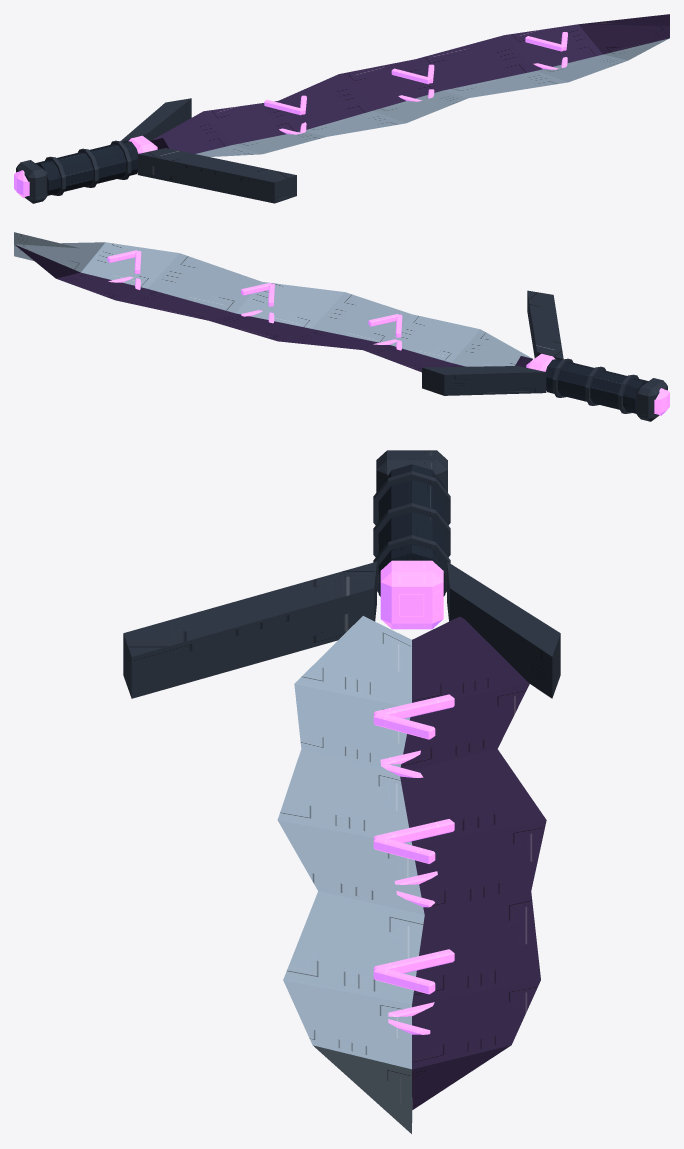
The model's file is greatblade.glb.
3 views of the same model, one above another, from view 1: azimuth 30°, elevation 25°; view 2: azimuth 150°, elevation 25°; view 3: azimuth 270°, elevation 25° (orthographic). The views are drawn at different scales.
Visible parts, largest first — view 1: blade, guard, grip; view 2: blade, guard, grip; view 3: blade, guard, grip.
Part boxes in pixels (x1=…): blade: x1=151, y1=14, x2=669, y2=156; guard: x1=120, y1=98, x2=296, y2=203; grip: x1=14, y1=140, x2=138, y2=203; blade: x1=14, y1=232, x2=532, y2=372; guard: x1=422, y1=290, x2=563, y2=395; grip: x1=545, y1=358, x2=669, y2=421; blade: x1=277, y1=616, x2=546, y2=1133; guard: x1=123, y1=560, x2=560, y2=698; grip: x1=373, y1=450, x2=450, y2=596.
Size of the model in its own units: 1.08 by 0.058 by 0.312.
Materials: 5 (5 with a texture image).
